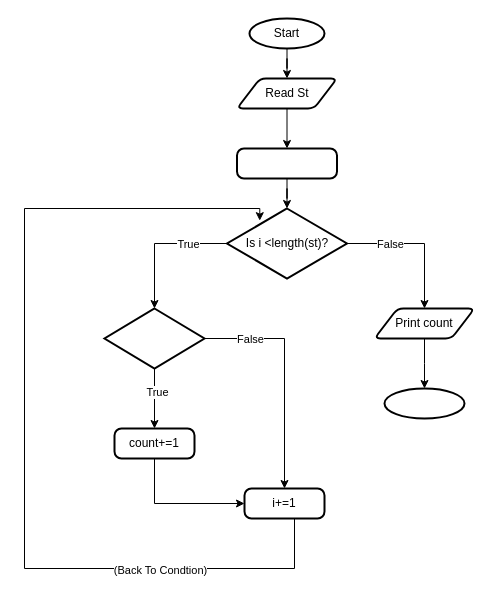
The diagram is 493 pixels wide and 594 high, and some of its shapes have lost their labels. The box of each missing label's shape, as (x1, y1, x2, y2) in pixels:
count = 0 i = 0: (236, 147, 338, 179)
Is st[i] Vowel?: (103, 307, 205, 369)
Stop: (383, 387, 465, 419)
